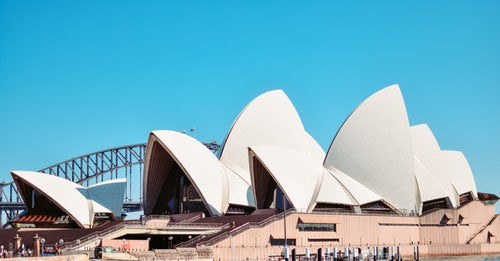opera house: (1, 52, 499, 249)
